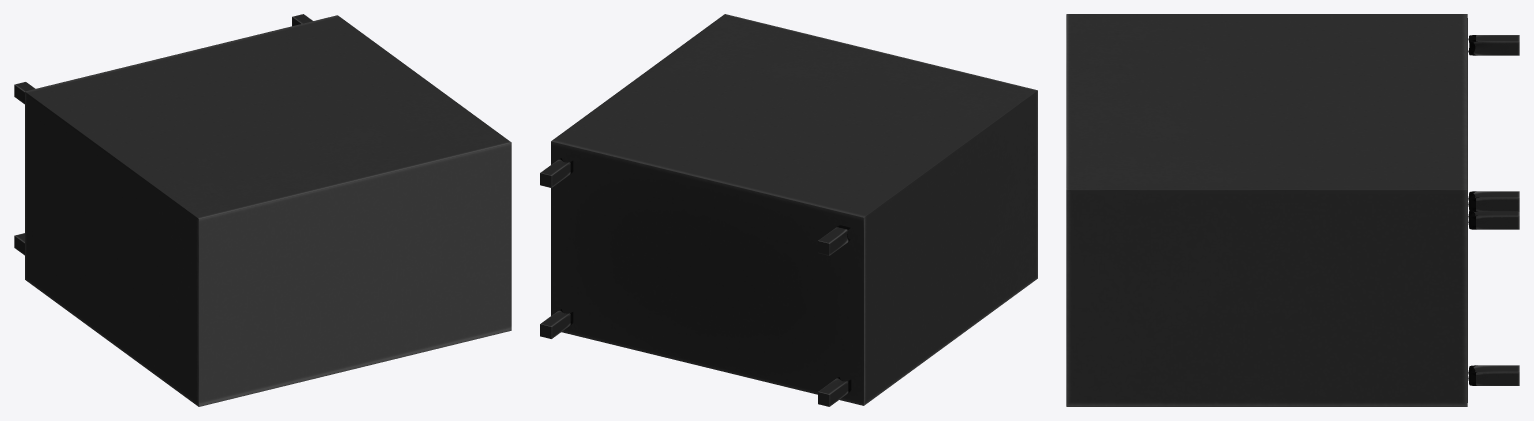
File: 10226_Dresser_Bureau_v3_Iterations-2.obj
3 renders of one model, left to right at view 1: azimuth 30°, elevation 25°; view 2: azimuth 150°, elevation 25°; view 3: azimuth 270°, elevation 25°, orthographic. The views are drawn at different scales.
Parts seen in each view (by area): view 1: 10226_Dresser_Bureau_v2; view 2: 10226_Dresser_Bureau_v2; view 3: 10226_Dresser_Bureau_v2.
Boxes of the visible parts, x1,y1,x2,y2 form: 10226_Dresser_Bureau_v2: (14,14,511,406); 10226_Dresser_Bureau_v2: (540,14,1037,406); 10226_Dresser_Bureau_v2: (1066,14,1519,406).
Size of the model in its own units: 80 by 46 by 87.
Materials: 1 (1 with a texture image).
